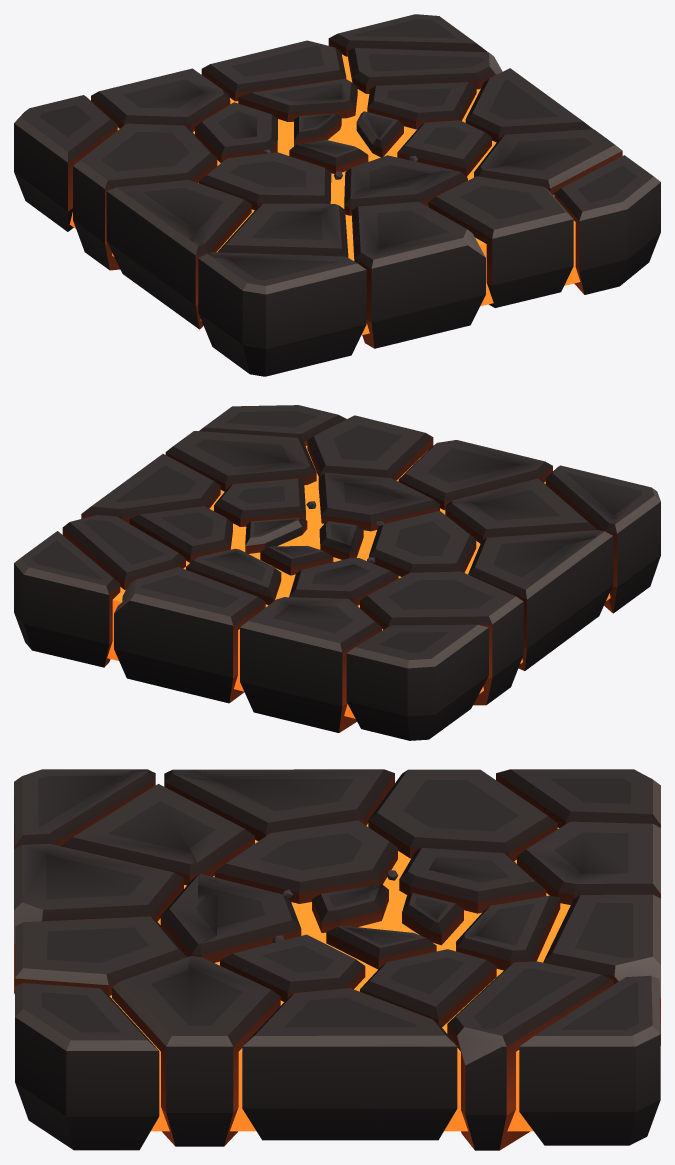
File: crumble_volcano.glb
The picture shows the model from 3 angles, top to bottom: view 1: azimuth 30°, elevation 25°; view 2: azimuth 150°, elevation 25°; view 3: azimuth 270°, elevation 25°; orthographic projection. The views are drawn at different scales.
Parts seen in each view (by area): view 1: crumble_volcano; view 2: crumble_volcano; view 3: crumble_volcano.
Boxes of the visible parts, box(x1,y1,x2,y2) form: crumble_volcano: box(14, 14, 660, 376); crumble_volcano: box(14, 405, 660, 740); crumble_volcano: box(14, 769, 660, 1150).
Size of the model in its own units: 2.4 by 0.5 by 2.4.
